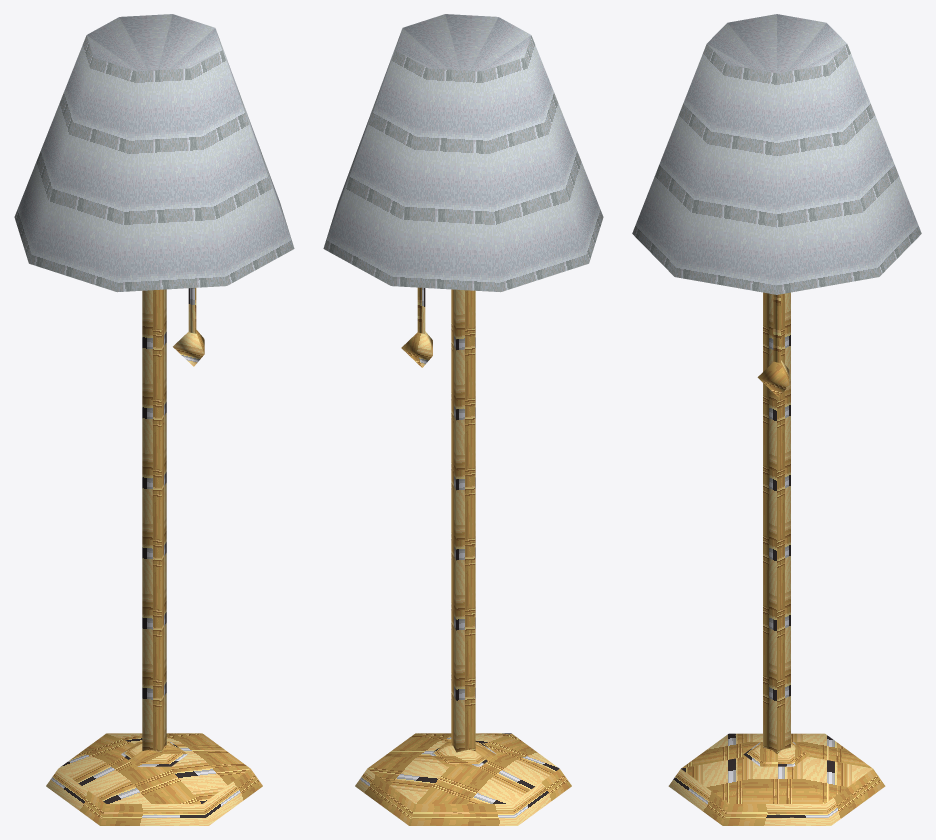
The model's file is 3066IMRL04_07.gltf.
3 views of the same model, side by side, from view 1: azimuth 30°, elevation 25°; view 2: azimuth 150°, elevation 25°; view 3: azimuth 270°, elevation 25° (orthographic).
Parts seen in each view (by area): view 1: 3066IMRL04_07; view 2: 3066IMRL04_07; view 3: 3066IMRL04_07.
Boxes of the visible parts, x1=… form: 3066IMRL04_07: x1=14, y1=14, x2=294, y2=825; 3066IMRL04_07: x1=323, y1=14, x2=603, y2=825; 3066IMRL04_07: x1=632, y1=14, x2=921, y2=825.
Size of the model in its own units: 0.7065 by 2 by 0.7065.
3 materials, 3 textured.
